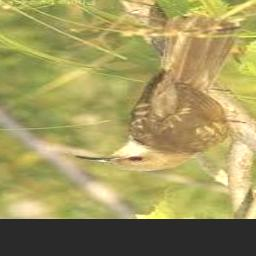Cuckoo: (76, 15, 246, 172)
